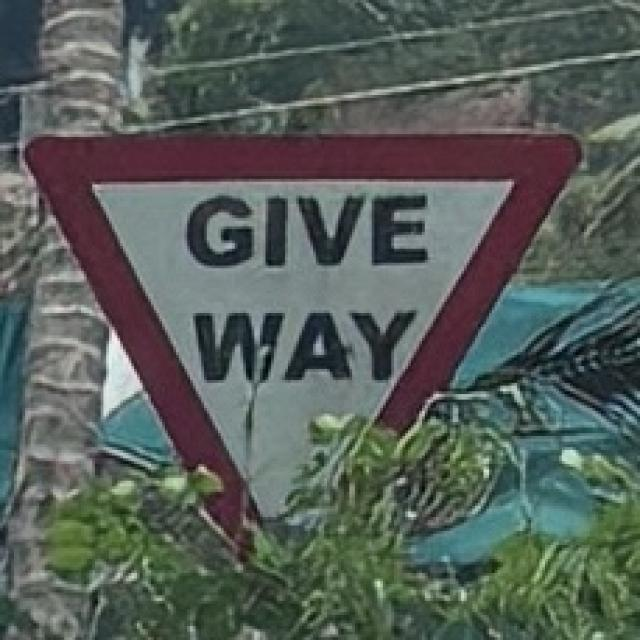GIVE_WAY: (28, 133, 590, 614)
